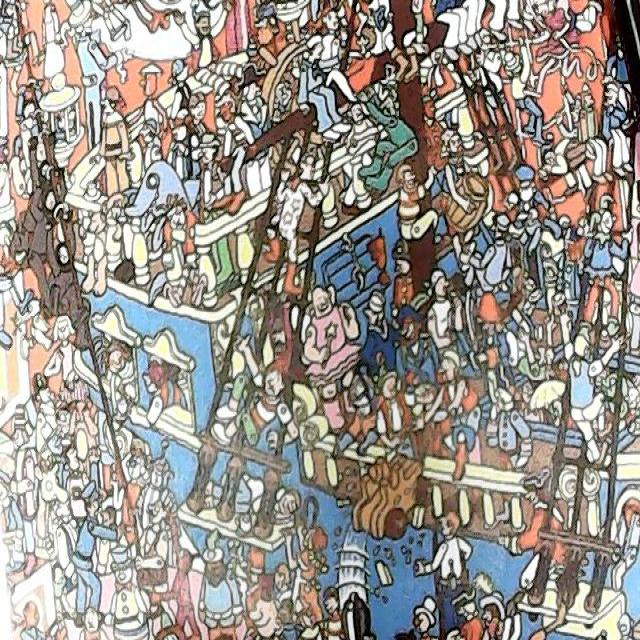waldo: (52, 391, 74, 448)
